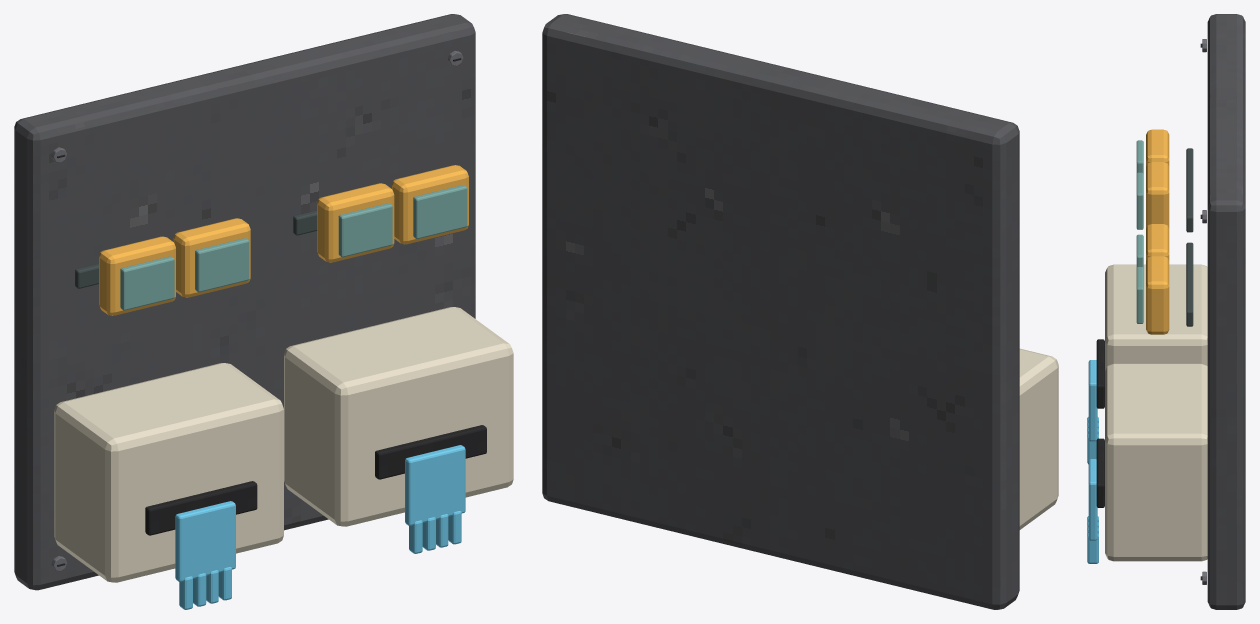
The model's file is lbd_chem_ppe_organizer.glb.
3 views of the same model, side by side, from view 1: azimuth 30°, elevation 25°; view 2: azimuth 150°, elevation 25°; view 3: azimuth 270°, elevation 25° (orthographic). The views are drawn at different scales.
Visible parts, largest first — view 1: chem_ppe_organizer__mount_003, chem_ppe_organizer__dispenser_022, chem_ppe_organizer__dispenser_043, chem_ppe_organizer__glove cuff_049, chem_ppe_organizer__glove cuff_028, chem_ppe_organizer__goggle frame_082, chem_ppe_organizer__goggle frame_067, chem_ppe_organizer__goggle frame_088, chem_ppe_organizer__goggle frame_073, chem_ppe_organizer__slot_025, chem_ppe_organizer__slot_046, chem_ppe_organizer__lens_076 (+3 smaller); view 2: chem_ppe_organizer__mount_003, chem_ppe_organizer__dispenser_022; view 3: chem_ppe_organizer__mount_003, chem_ppe_organizer__dispenser_043, chem_ppe_organizer__dispenser_022, chem_ppe_organizer__goggle frame_088, chem_ppe_organizer__goggle frame_073, chem_ppe_organizer__goggle frame_067, chem_ppe_organizer__goggle frame_082, chem_ppe_organizer__glove cuff_049, chem_ppe_organizer__glove cuff_028, chem_ppe_organizer__goggle strap_064, chem_ppe_organizer__goggle strap_079, chem_ppe_organizer__slot_025 (+6 smaller).
Boxes of the visible parts, box(x1,y1,x2,y2) form: chem_ppe_organizer__mount_003: box(14, 14, 475, 590); chem_ppe_organizer__dispenser_022: box(54, 363, 283, 582); chem_ppe_organizer__dispenser_043: box(284, 307, 513, 526); chem_ppe_organizer__glove cuff_049: box(405, 445, 465, 525); chem_ppe_organizer__glove cuff_028: box(175, 501, 235, 581); chem_ppe_organizer__goggle frame_082: box(317, 183, 394, 262); chem_ppe_organizer__goggle frame_067: box(99, 236, 175, 315); chem_ppe_organizer__goggle frame_088: box(392, 165, 468, 244); chem_ppe_organizer__goggle frame_073: box(173, 218, 250, 297); chem_ppe_organizer__slot_025: box(145, 481, 257, 535); chem_ppe_organizer__slot_046: box(375, 425, 486, 479); chem_ppe_organizer__lens_076: box(195, 238, 249, 292); chem_ppe_organizer__mount_003: box(542, 14, 1019, 609); chem_ppe_organizer__dispenser_022: box(1019, 348, 1058, 529); chem_ppe_organizer__mount_003: box(1207, 14, 1245, 609); chem_ppe_organizer__dispenser_043: box(1105, 363, 1207, 561); chem_ppe_organizer__dispenser_022: box(1105, 264, 1207, 370); chem_ppe_organizer__goggle frame_088: box(1146, 256, 1169, 334); chem_ppe_organizer__goggle frame_073: box(1146, 162, 1169, 228); chem_ppe_organizer__goggle frame_067: box(1146, 129, 1169, 166); chem_ppe_organizer__goggle frame_082: box(1146, 224, 1169, 260); chem_ppe_organizer__glove cuff_049: box(1088, 459, 1097, 540); chem_ppe_organizer__glove cuff_028: box(1088, 360, 1097, 441); chem_ppe_organizer__goggle strap_064: box(1186, 148, 1193, 232); chem_ppe_organizer__goggle strap_079: box(1186, 242, 1193, 326); chem_ppe_organizer__slot_025: box(1096, 339, 1104, 408).
Bounding box in the file's own units: 0.78 × 0.77 × 0.27.
Materials: 8 (3 with a texture image).
